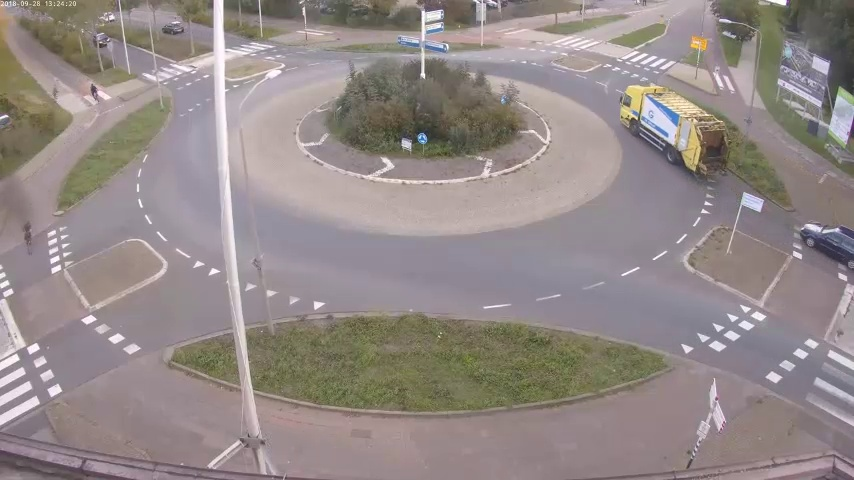bicycle: (22, 220, 35, 256), (86, 83, 101, 109)
car: (798, 217, 854, 263), (157, 19, 188, 35), (94, 30, 106, 50)
truck: (615, 84, 735, 183)
